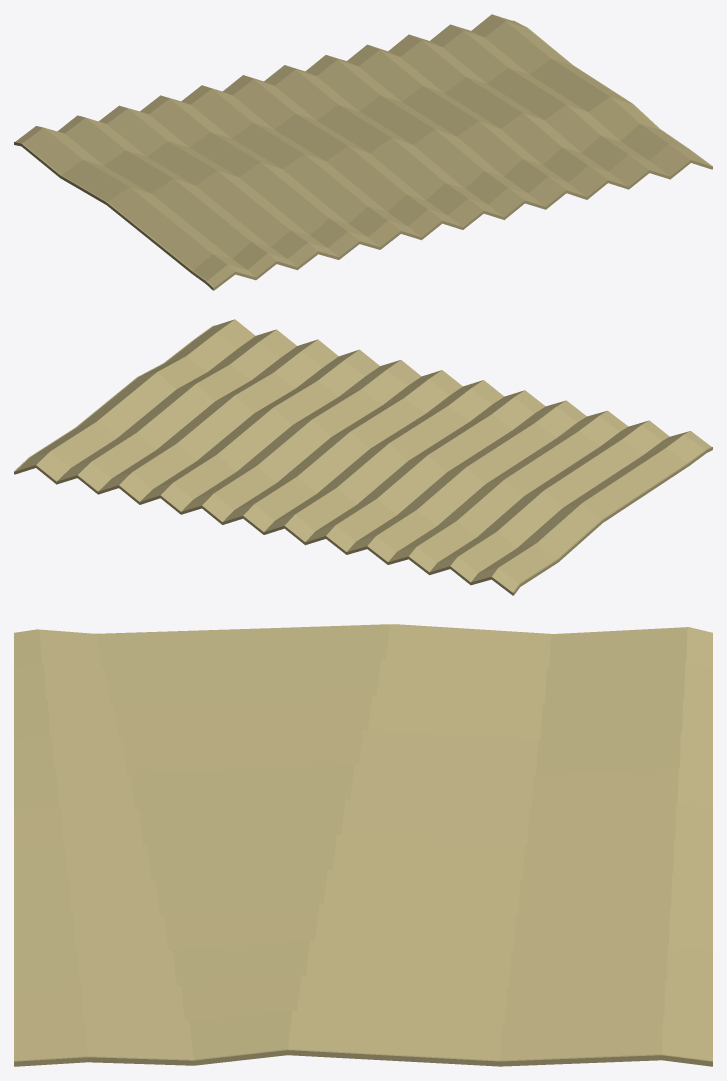
Rendered from lacune.fbx_MetalRoofBig.fbx.
3 renders of one model, top to bottom at view 1: azimuth 30°, elevation 25°; view 2: azimuth 150°, elevation 25°; view 3: azimuth 270°, elevation 25°, orthographic. The views are drawn at different scales.
Visible parts, largest first — view 1: MetalRoofBig; view 2: MetalRoofBig; view 3: MetalRoofBig.
Boxes of the visible parts, <box> form: MetalRoofBig: <box>14,14,712,290</box>; MetalRoofBig: <box>14,319,712,595</box>; MetalRoofBig: <box>14,624,712,1066</box>.
Size of what is drawn, in the model's own units: 410 by 16.35 by 283.
